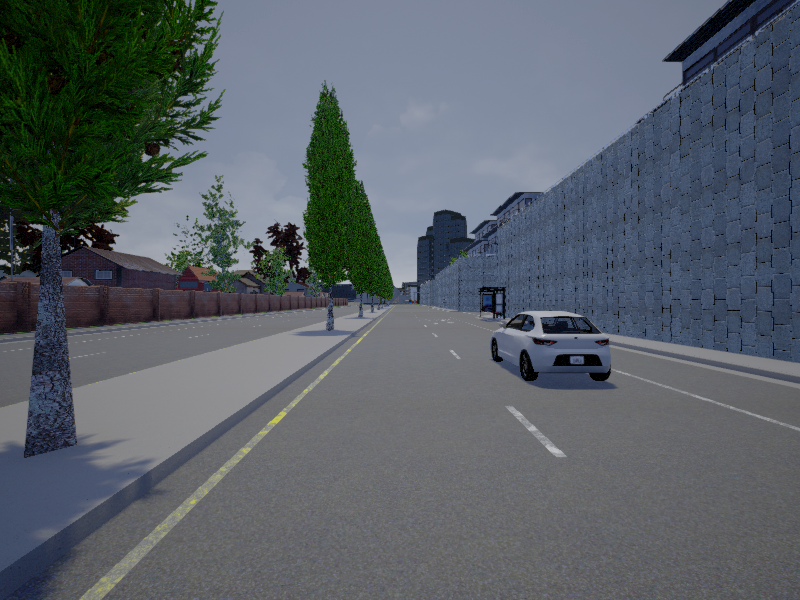Benign: (493, 311, 610, 382)
